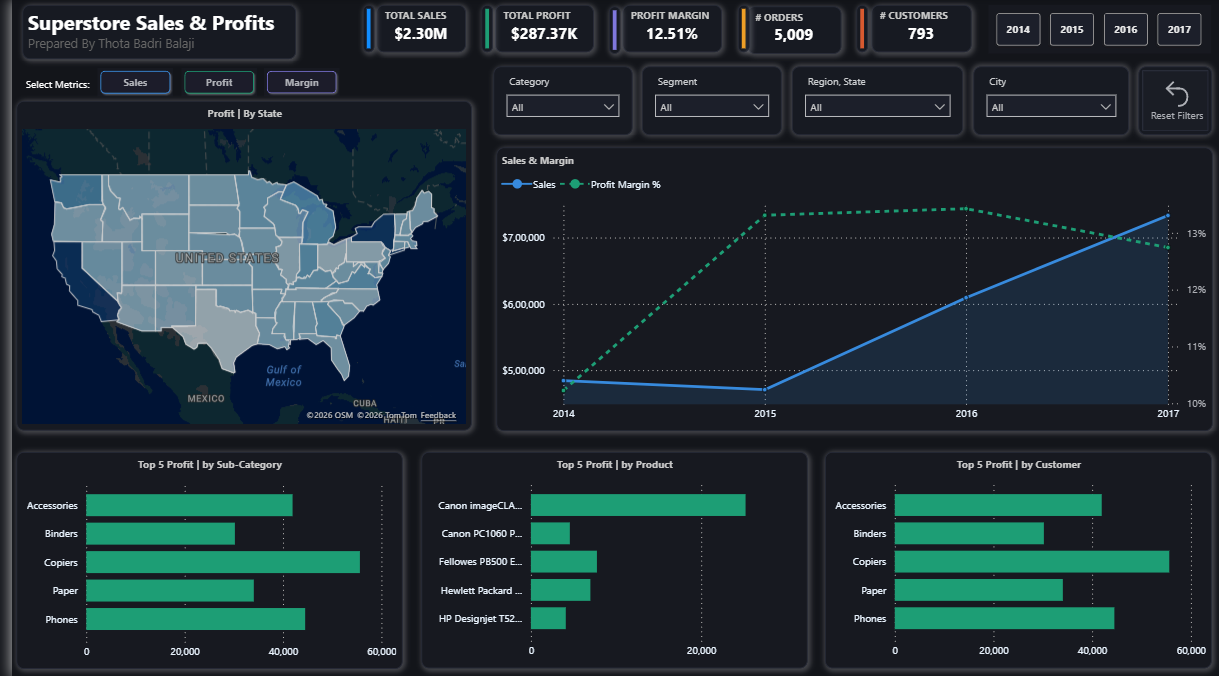

What the dashboard file says about the page in this screenshot:
{"tool":"powerbi","page":{"name":"Sales & Profit","canvas":[1280,720],"ordinal":0},"visuals":[{"type":"lineChart","title":"Sales & Margin  ","fields":{"Category":["Superstore sales dataset.Order Date.Variation.Date Hierarchy.Year","Superstore sales dataset.Order Date.Variation.Date Hierarchy.Quarter","Superstore sales dataset.Order Date.Variation.Date Hierarchy.Month","Superstore sales dataset.Order Date.Variation.Date Hierarchy.Day"],"Y":["Sum(Superstore sales dataset.Sales)"],"Y2":["measure.Profit Margin %"]},"box":[513,157.5,759,300.6],"z":0},{"type":"advancedSlicerVisual","fields":{"Values":["Superstore sales dataset.Order Date.Variation.Date Hierarchy.Year"]},"box":[1035.6,7,236.2,51.2],"z":1000},{"type":"slicer","fields":{"Values":["Superstore sales dataset.City"]},"box":[1019,72.4,164.9,72.4],"z":2000},{"type":"slicer","fields":{"Values":["Superstore sales dataset.Region Hierarchy.Region","Superstore sales dataset.Region Hierarchy.State"]},"box":[826.8,72.4,181.5,72.4],"z":3000},{"type":"slicer","fields":{"Values":["Superstore sales dataset.Segment"]},"box":[667.9,72.4,148.3,72.4],"z":4000},{"type":"slicer","fields":{"Values":["Superstore sales dataset.Category"]},"box":[510.1,72.4,147.1,72.4],"z":5000},{"type":"actionButton","title":"Reset Slicer","box":[1194.6,72.4,78.3,72.4],"z":6000},{"type":"card","title":"# CUSTOMERS","fields":{"Values":["Count(Superstore sales dataset.Customer ID)"]},"box":[911.9,7.2,105.9,50],"z":7000},{"type":"card","title":"# ORDERS","fields":{"Values":["Count(Superstore sales dataset.Order ID)"]},"box":[779.2,7.4,99.7,50],"z":8000},{"type":"card","title":"PROFIT MARGIN","fields":{"Values":["measure.Profit Margin %"]},"box":[648,6.8,105.6,50],"z":9000},{"type":"card","title":"TOTAL PROFIT","fields":{"Values":["Sum(Superstore sales dataset.Profit)"]},"box":[512.6,6.8,104.6,50],"z":10000},{"type":"card","title":"TOTAL SALES","fields":{"Values":["Sum(Superstore sales dataset.Sales)"]},"box":[387.1,7,94.9,50],"z":11000},{"type":"shape","box":[895.2,6.8,12,50],"z":12000},{"type":"shape","box":[769.9,6.8,12,50],"z":13000},{"type":"shape","box":[633.5,7.9,12,50],"z":14000},{"type":"shape","box":[498.3,6.8,12,50],"z":15000},{"type":"shape","box":[371.7,6.8,12,50],"z":16000},{"type":"actionButton","title":"Margin %","box":[267.6,73.1,80,30],"z":17000},{"type":"actionButton","title":"Profit","box":[179.4,73.1,80,30.3],"z":18000},{"type":"actionButton","title":"Sales","box":[90.9,73.1,80.3,30.3],"z":19000},{"type":"textbox","box":[10.5,5.8,289.7,57],"z":20000},{"type":"textbox","title":"Select Metrics:","box":[9.5,74.8,81.1,33.4],"z":21000},{"type":"azureMap","title":"Margin %  | By State","fields":{"Category":["Superstore sales dataset.State"]},"box":[4,108,485.5,349.1],"z":28500},{"type":"barChart","title":"Top 5 Margin | by Sub-Category","fields":{"Category":["Superstore sales dataset.Sub-Category"],"Y":["measure.Profit Margin %"]},"box":[4,480,409,230],"z":31000},{"type":"barChart","title":"Top 5 Margin | by Customer","fields":{"Category":["Superstore sales dataset.Customer Name"],"Y":["measure.Profit Margin %"]},"box":[862.7,480,410,229],"z":32000},{"type":"barChart","title":"Top 5 Margin | by Customer","fields":{"Category":["Superstore sales dataset.Product Name"],"Y":["measure.Profit Margin %"]},"box":[433,480,410,229],"z":33000}]}

Visuals, with their boxes in screenshot pixels (x1, y1, x2, y2), scaled from the page's 1280x720 canvas onto the 1219x676 screenshot:
"Sales & Margin  " lineChart: bbox(489, 148, 1211, 430)
advancedSlicerVisual - Superstore sales dataset.Order Date.Variation.Date Hierarchy.Year: bbox(986, 7, 1211, 55)
slicer - Superstore sales dataset.City: bbox(970, 68, 1127, 136)
slicer - Superstore sales dataset.Region Hierarchy.Region x Superstore sales dataset.Region Hierarchy.State: bbox(787, 68, 960, 136)
slicer - Superstore sales dataset.Segment: bbox(636, 68, 777, 136)
slicer - Superstore sales dataset.Category: bbox(486, 68, 626, 136)
"Reset Slicer" actionButton: bbox(1138, 68, 1212, 136)
"# CUSTOMERS" card: bbox(868, 7, 969, 54)
"# ORDERS" card: bbox(742, 7, 837, 54)
"PROFIT MARGIN" card: bbox(617, 6, 718, 53)
"TOTAL PROFIT" card: bbox(488, 6, 588, 53)
"TOTAL SALES" card: bbox(369, 7, 459, 54)
shape: bbox(853, 6, 864, 53)
shape: bbox(733, 6, 745, 53)
shape: bbox(603, 7, 615, 54)
shape: bbox(475, 6, 486, 53)
shape: bbox(354, 6, 365, 53)
"Margin %" actionButton: bbox(255, 69, 331, 97)
"Profit" actionButton: bbox(171, 69, 247, 97)
"Sales" actionButton: bbox(87, 69, 163, 97)
textbox: bbox(10, 5, 286, 59)
"Select Metrics:" textbox: bbox(9, 70, 86, 102)
"Margin %  | By State" azureMap: bbox(4, 101, 466, 429)
"Top 5 Margin | by Sub-Category" barChart: bbox(4, 451, 393, 667)
"Top 5 Margin | by Customer" barChart: bbox(822, 451, 1212, 666)
"Top 5 Margin | by Customer" barChart: bbox(412, 451, 803, 666)
